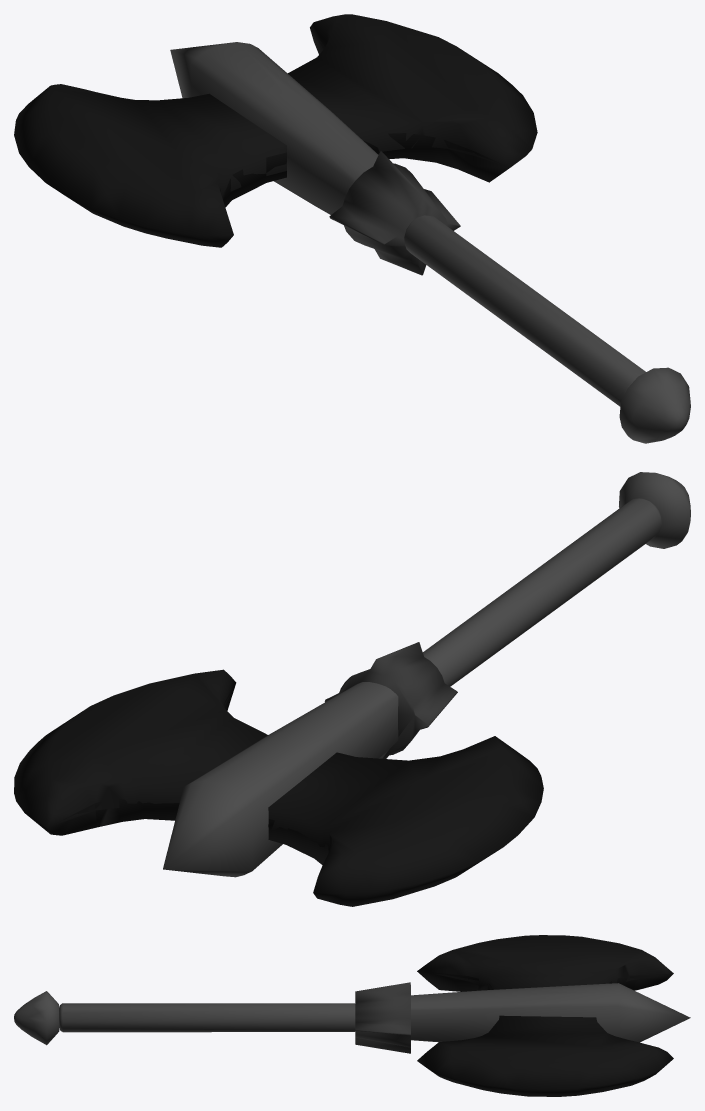
Rendered from Axe.obj.
3 views of the same model, one above another, from view 1: azimuth 30°, elevation 25°; view 2: azimuth 150°, elevation 25°; view 3: azimuth 270°, elevation 25° (orthographic). The views are drawn at different scales.
Visible parts, largest first — view 1: Culb_1_Cube; view 2: Culb_1_Cube; view 3: Culb_1_Cube.
Part boxes in pixels (box(x1,y1,x2,y2)): Culb_1_Cube: box(14, 14, 690, 443); Culb_1_Cube: box(14, 472, 690, 906); Culb_1_Cube: box(14, 935, 690, 1096).
Bounding box in the file's own units: 2.18 × 0.4949 × 4.26.
Materials: 2 (2 with a texture image).
